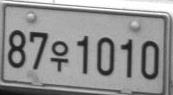0: (140, 39, 160, 80), (95, 36, 114, 76)
1: (118, 38, 138, 78), (74, 34, 93, 74)
7: (28, 30, 48, 70)
8: (6, 28, 26, 68)
우: (49, 39, 68, 72)
